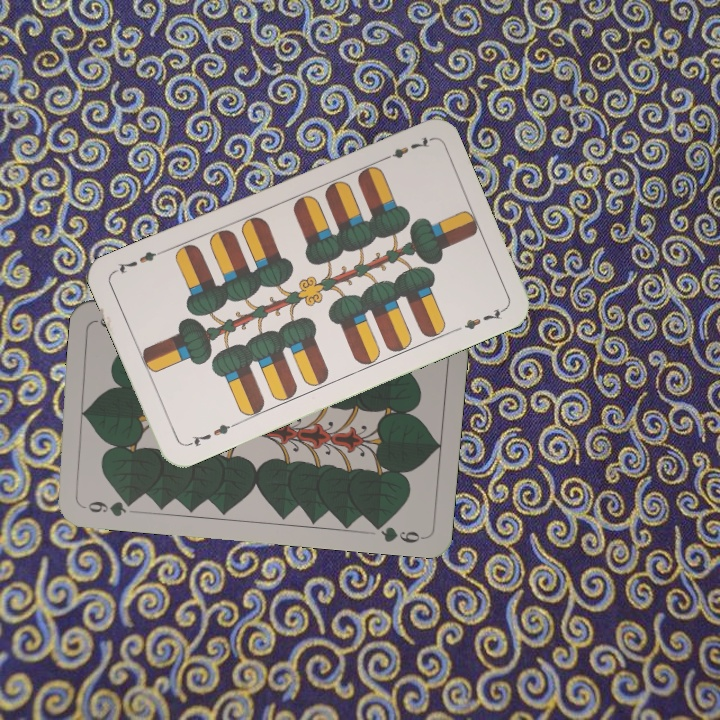E7: (377, 132, 433, 164), (183, 419, 239, 450)
G9: (78, 496, 138, 519)
